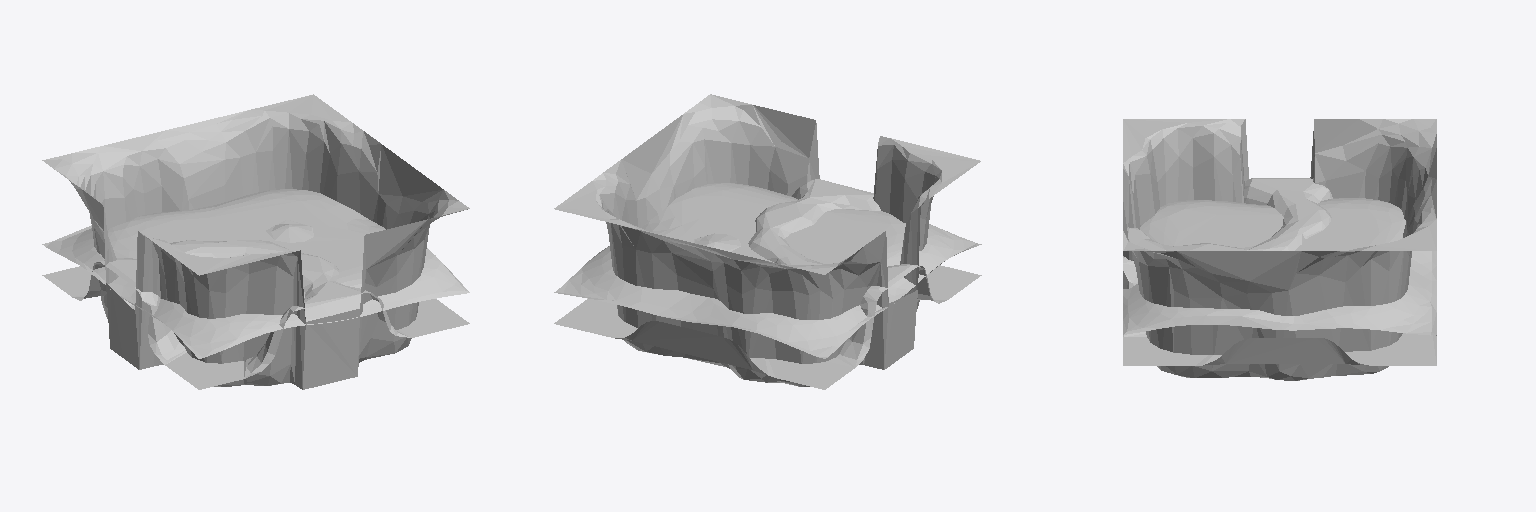
Rendered from Arena 1.obj.
3 views of the same model, side by side, from view 1: azimuth 30°, elevation 25°; view 2: azimuth 150°, elevation 25°; view 3: azimuth 270°, elevation 25° (orthographic).
Parts seen in each view (by area): view 1: Mountains_Plane, Grass_Plane.001, Road_Plane.002; view 2: Mountains_Plane, Grass_Plane.001, Road_Plane.002; view 3: Mountains_Plane, Grass_Plane.001, Road_Plane.002.
Part boxes in pixels (left/top/right/bottom): Mountains_Plane: left=42, top=94, right=469, bottom=389; Grass_Plane.001: left=42, top=189, right=469, bottom=358; Road_Plane.002: left=42, top=240, right=469, bottom=389; Mountains_Plane: left=554, top=94, right=980, bottom=386; Grass_Plane.001: left=554, top=183, right=981, bottom=358; Road_Plane.002: left=554, top=179, right=981, bottom=389; Mountains_Plane: left=1123, top=119, right=1436, bottom=380; Grass_Plane.001: left=1123, top=198, right=1436, bottom=335; Road_Plane.002: left=1123, top=178, right=1436, bottom=365.
Bounding box in the file's own units: 40.13 × 20.11 × 40.15.